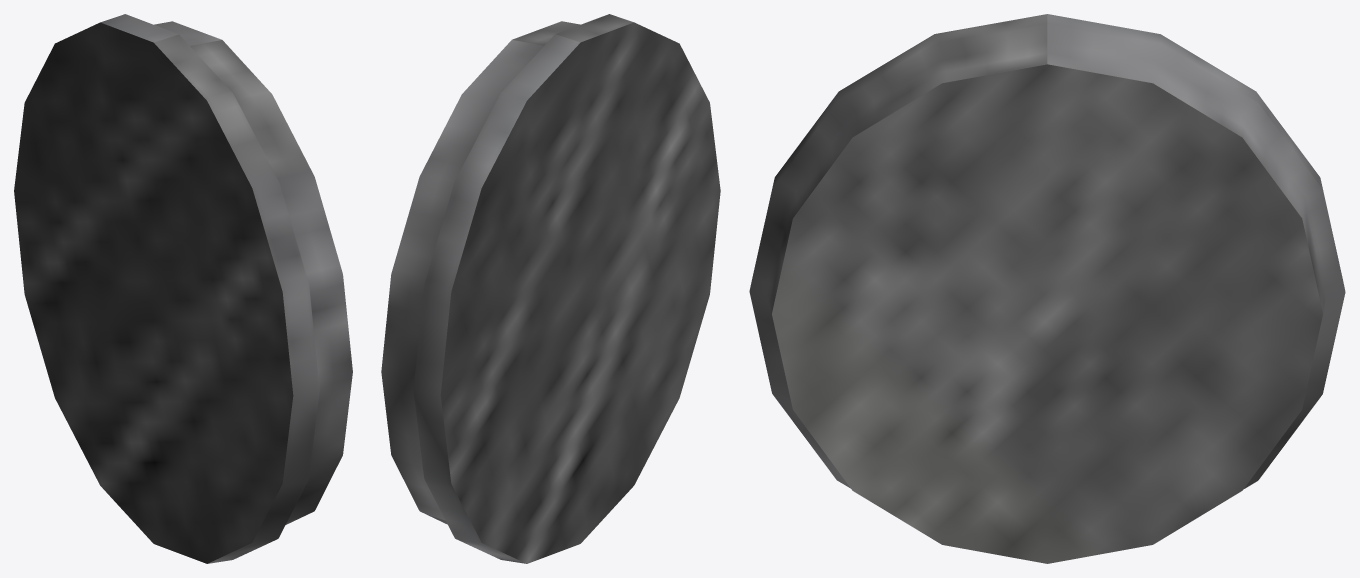
Rendered from RuedaIzq6.obj.
3 renders of one model, left to right at view 1: azimuth 30°, elevation 25°; view 2: azimuth 150°, elevation 25°; view 3: azimuth 270°, elevation 25°, orthographic. The views are drawn at different scales.
Parts seen in each view (by area): view 1: RuedaIzq6; view 2: RuedaIzq6; view 3: RuedaIzq6.
Part boxes in pixels (x1,y1,x2,y2): RuedaIzq6: (14, 14, 352, 563); RuedaIzq6: (381, 14, 720, 563); RuedaIzq6: (749, 14, 1345, 563).
Size of the model in its own units: 0.041 by 0.2641 by 0.2674.
Materials: 1 (1 with a texture image).
